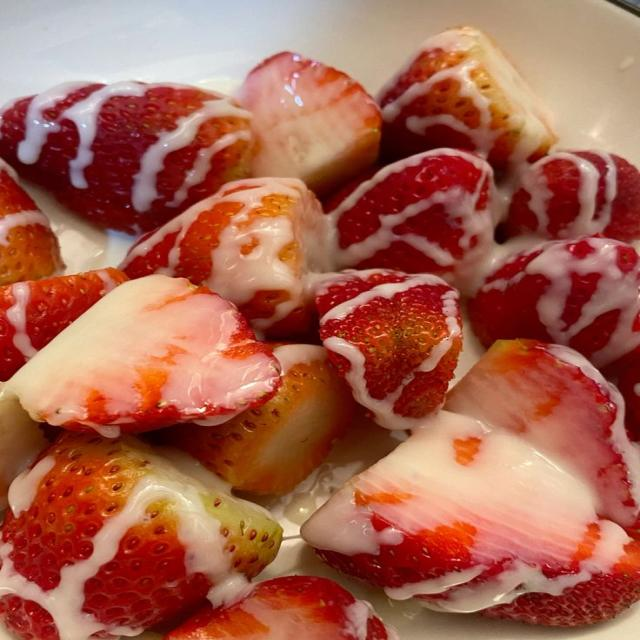strawberry sliced: (303, 343, 639, 625), (0, 432, 280, 639), (5, 275, 279, 435), (0, 82, 251, 232), (446, 340, 639, 526), (121, 179, 332, 337), (161, 344, 355, 494), (378, 27, 555, 167), (317, 270, 461, 428), (330, 149, 494, 287), (469, 237, 639, 366), (239, 52, 381, 192), (165, 576, 397, 639), (0, 268, 128, 380), (505, 151, 639, 242), (0, 160, 63, 285), (617, 352, 639, 441)
